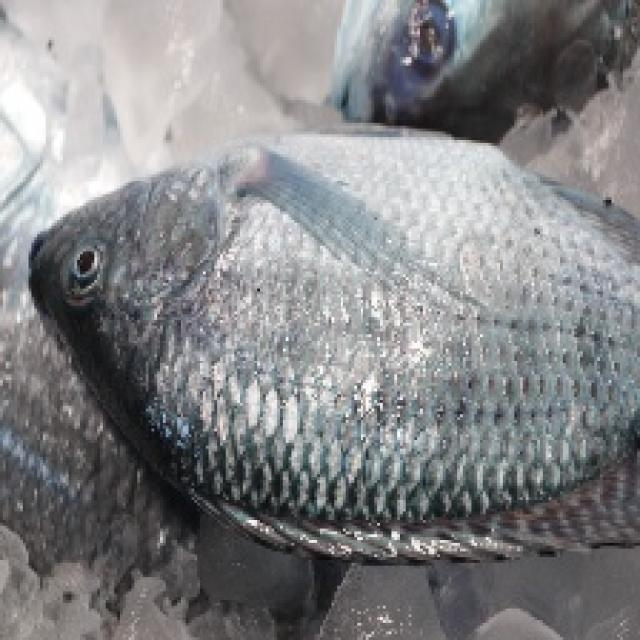Fresh: (17, 120, 560, 515)
